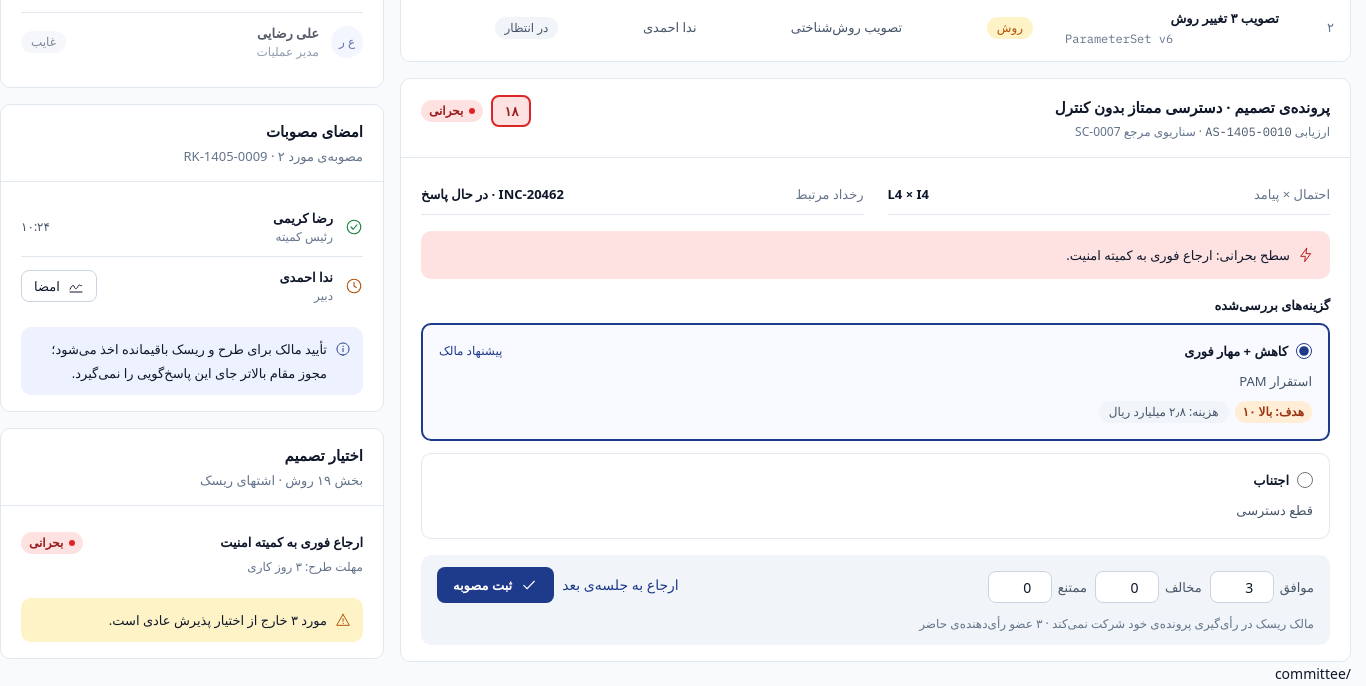
Test: CommitteePage › records a resolution with the chosen option and the votes
Later steps or results of the test are not shown.
(page scrolled)
Click the radio button labelled "اجتناب قطع دسترسی" at (1305, 480), box [1297,472,1313,488]
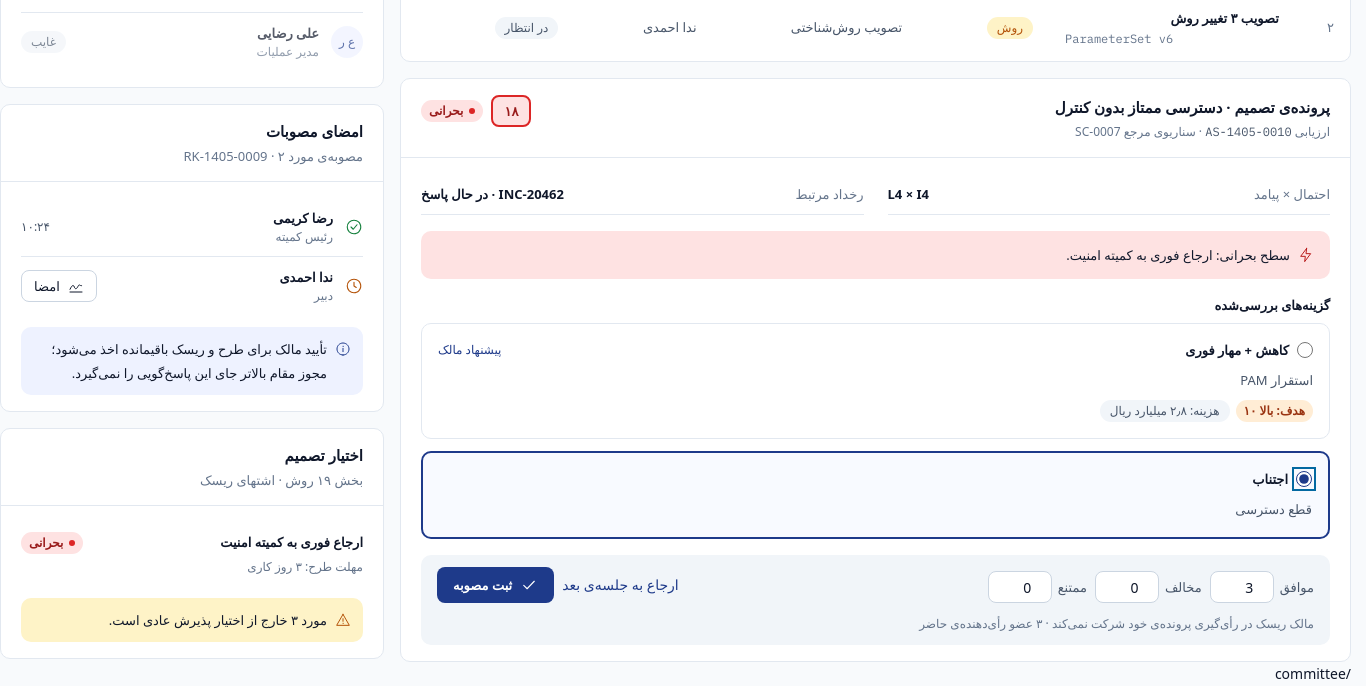
Replace the text in the number field labelled "موافق" with "2" at (1242, 587), box [1210,571,1274,603]
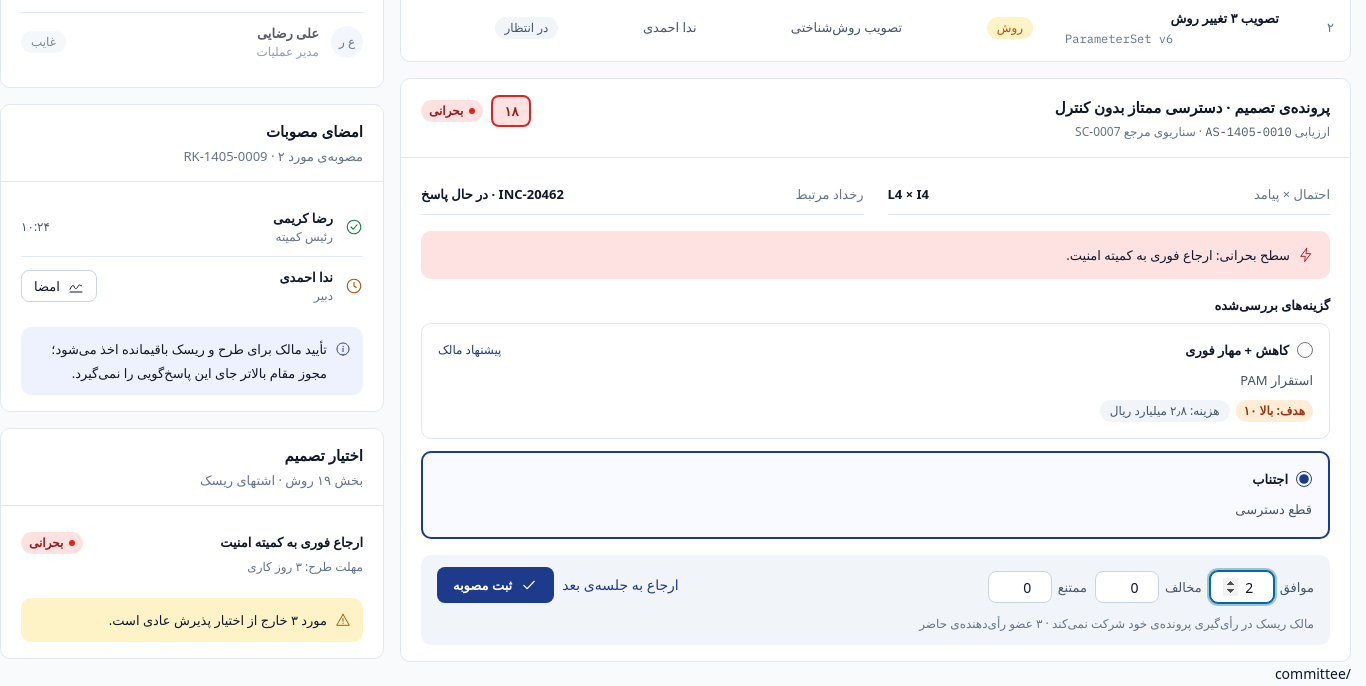
Replace the text in the number field labelled "مخالف" with "1" at (1127, 587), box [1095,571,1159,603]
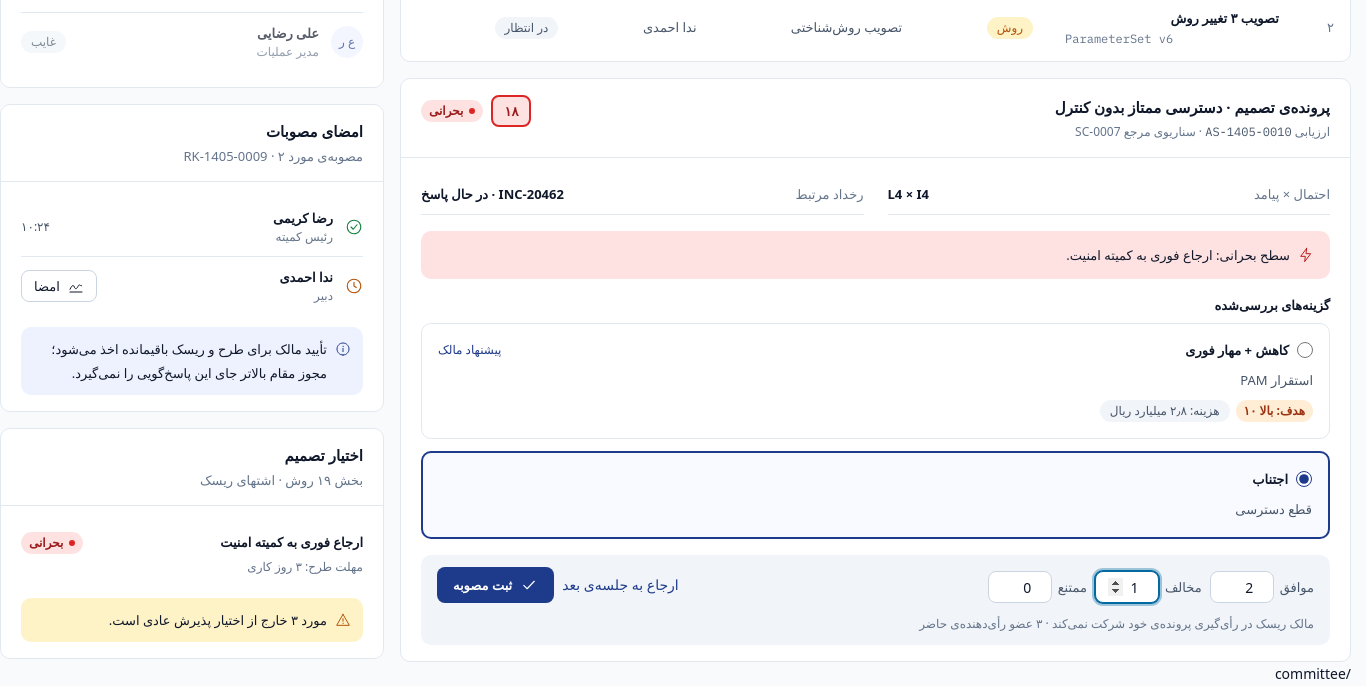
Click the button "ثبت مصوبه" at (496, 585), box [437,567,554,603]
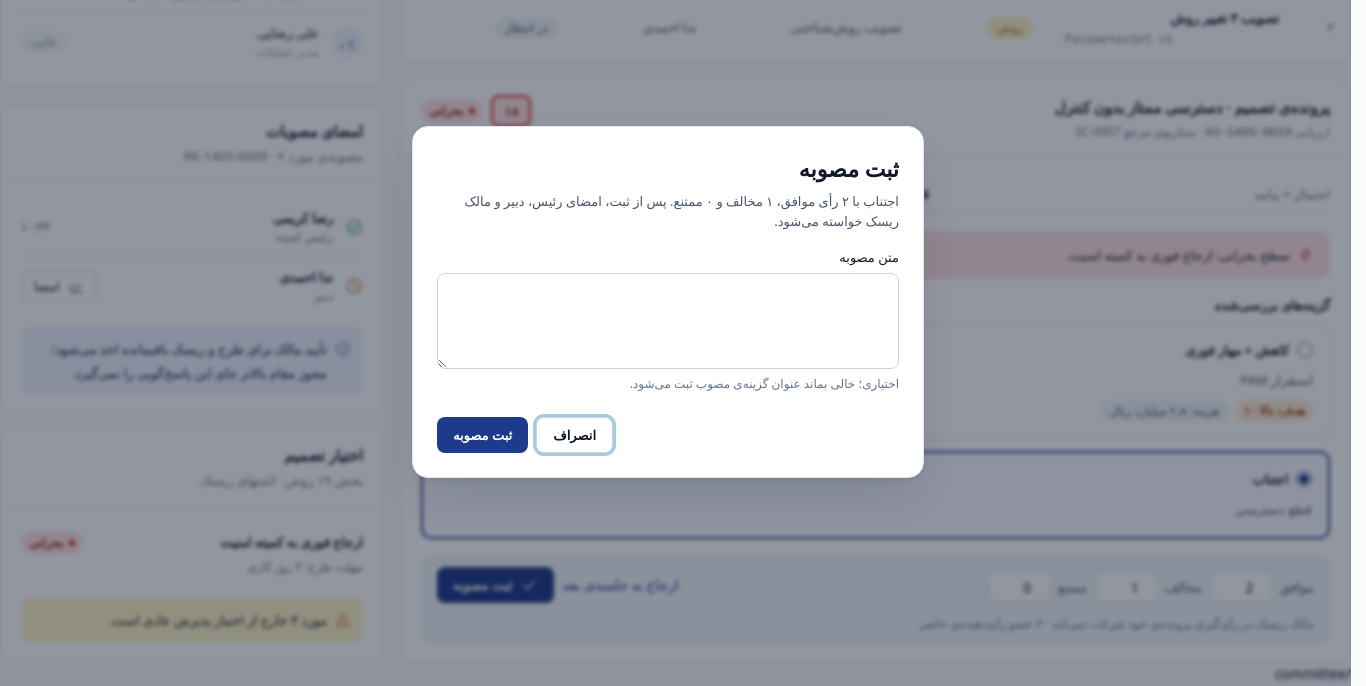
Check: the dialog shows "اجتناب با ۲ رأی موافق، ۱ مخالف و ۰ ممتنع", box [464,192,899,230]
